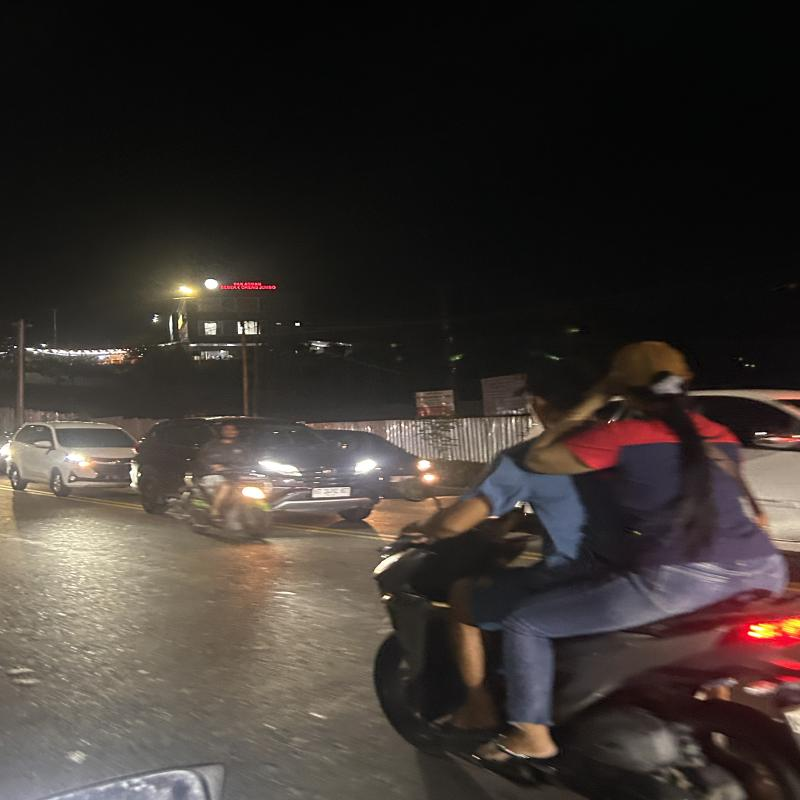license plate on a car: (307, 484, 365, 501)
